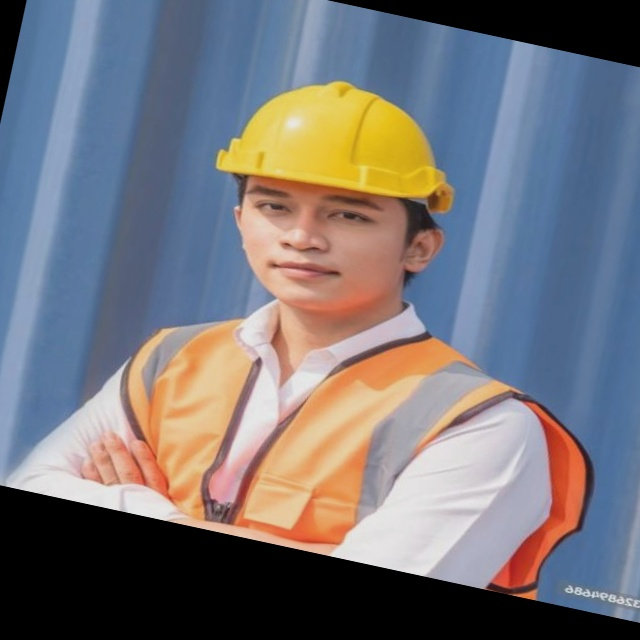Con_Casco: (190, 56, 472, 333)
Con_Chaleco: (87, 276, 613, 607)
